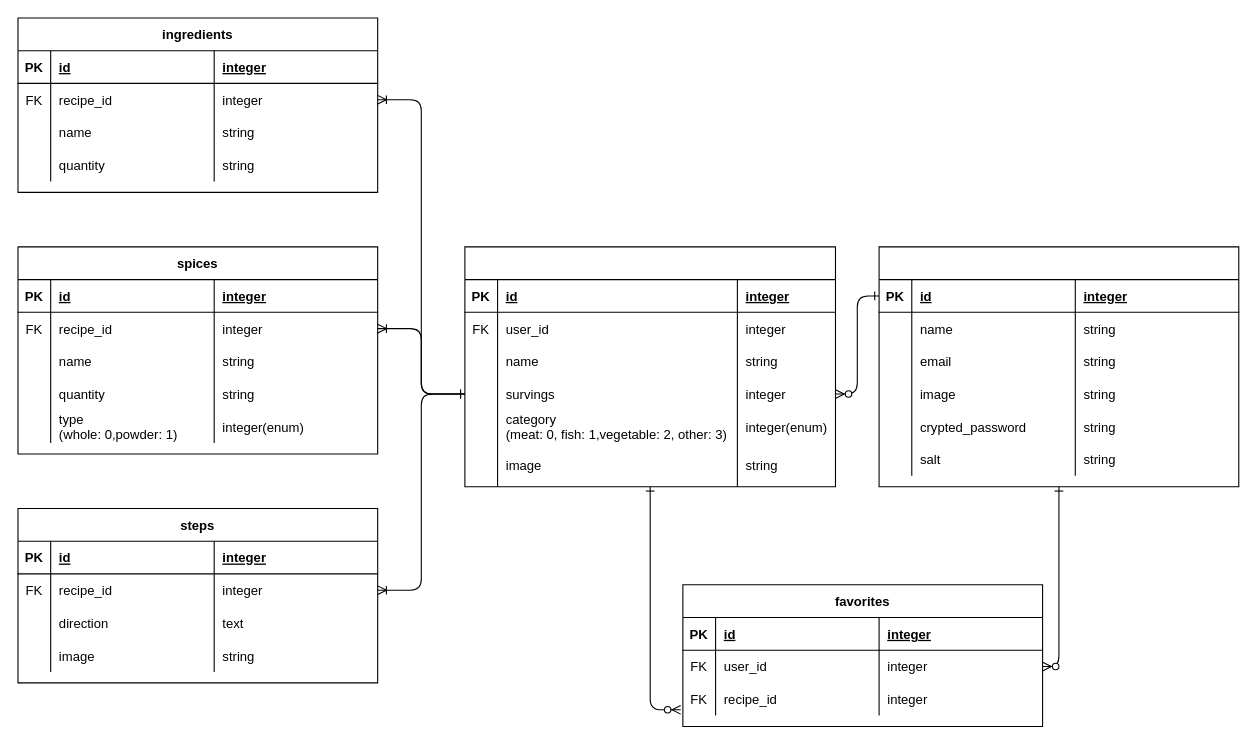
This 1257x744 diagram has some shape labels left out. The box of each missing label's shape, as (x1, y1, x2, y2) in pixels:
recipes: (464, 246, 835, 487)
users: (878, 246, 1239, 487)
